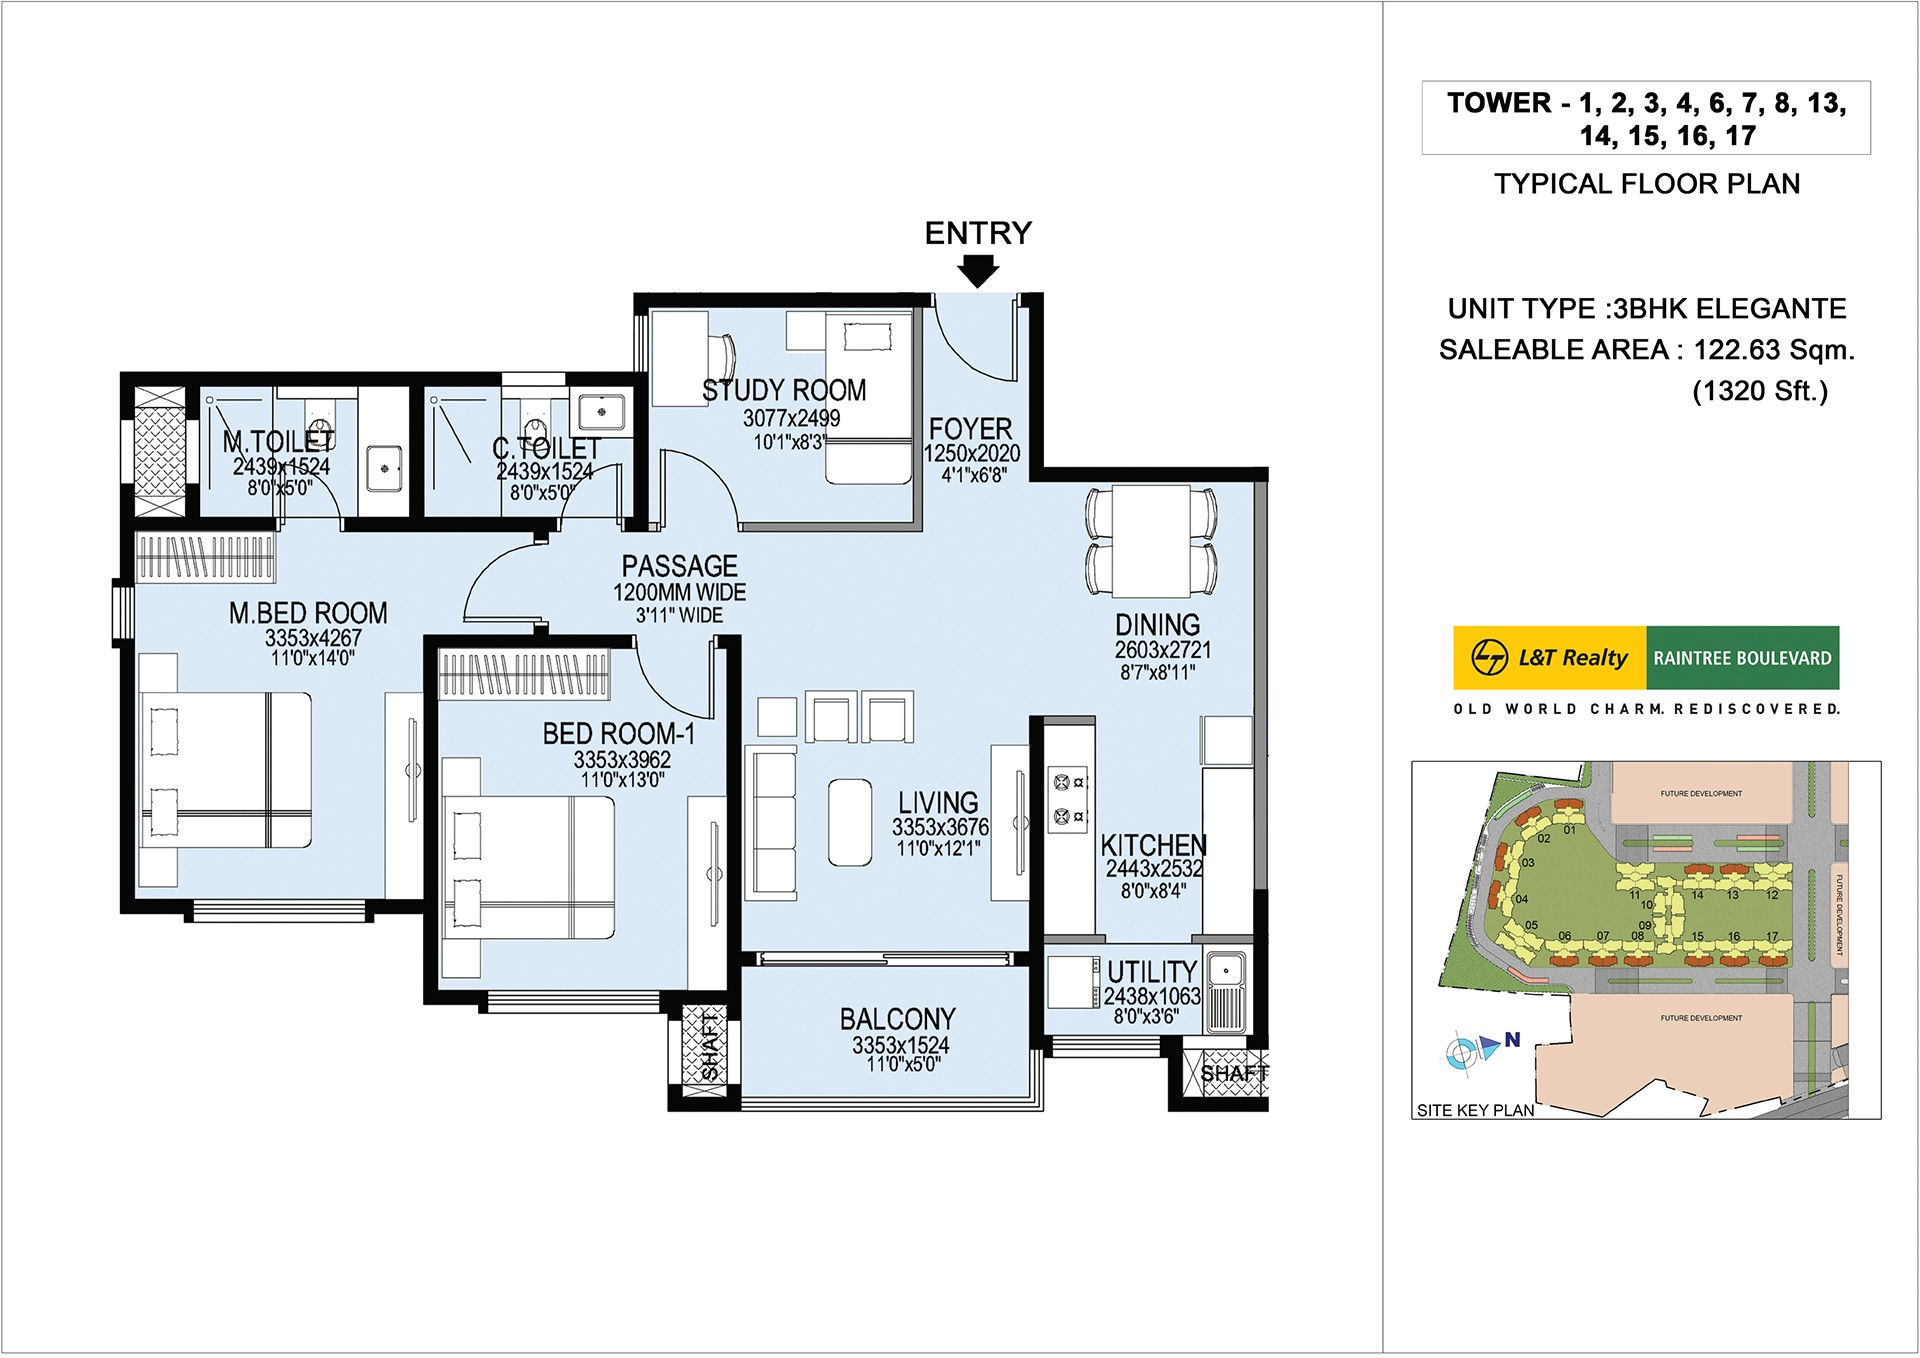window: (190, 894, 369, 927), (752, 946, 1018, 969), (483, 986, 663, 1016), (1050, 1033, 1163, 1063), (107, 583, 138, 642), (627, 312, 651, 375)
